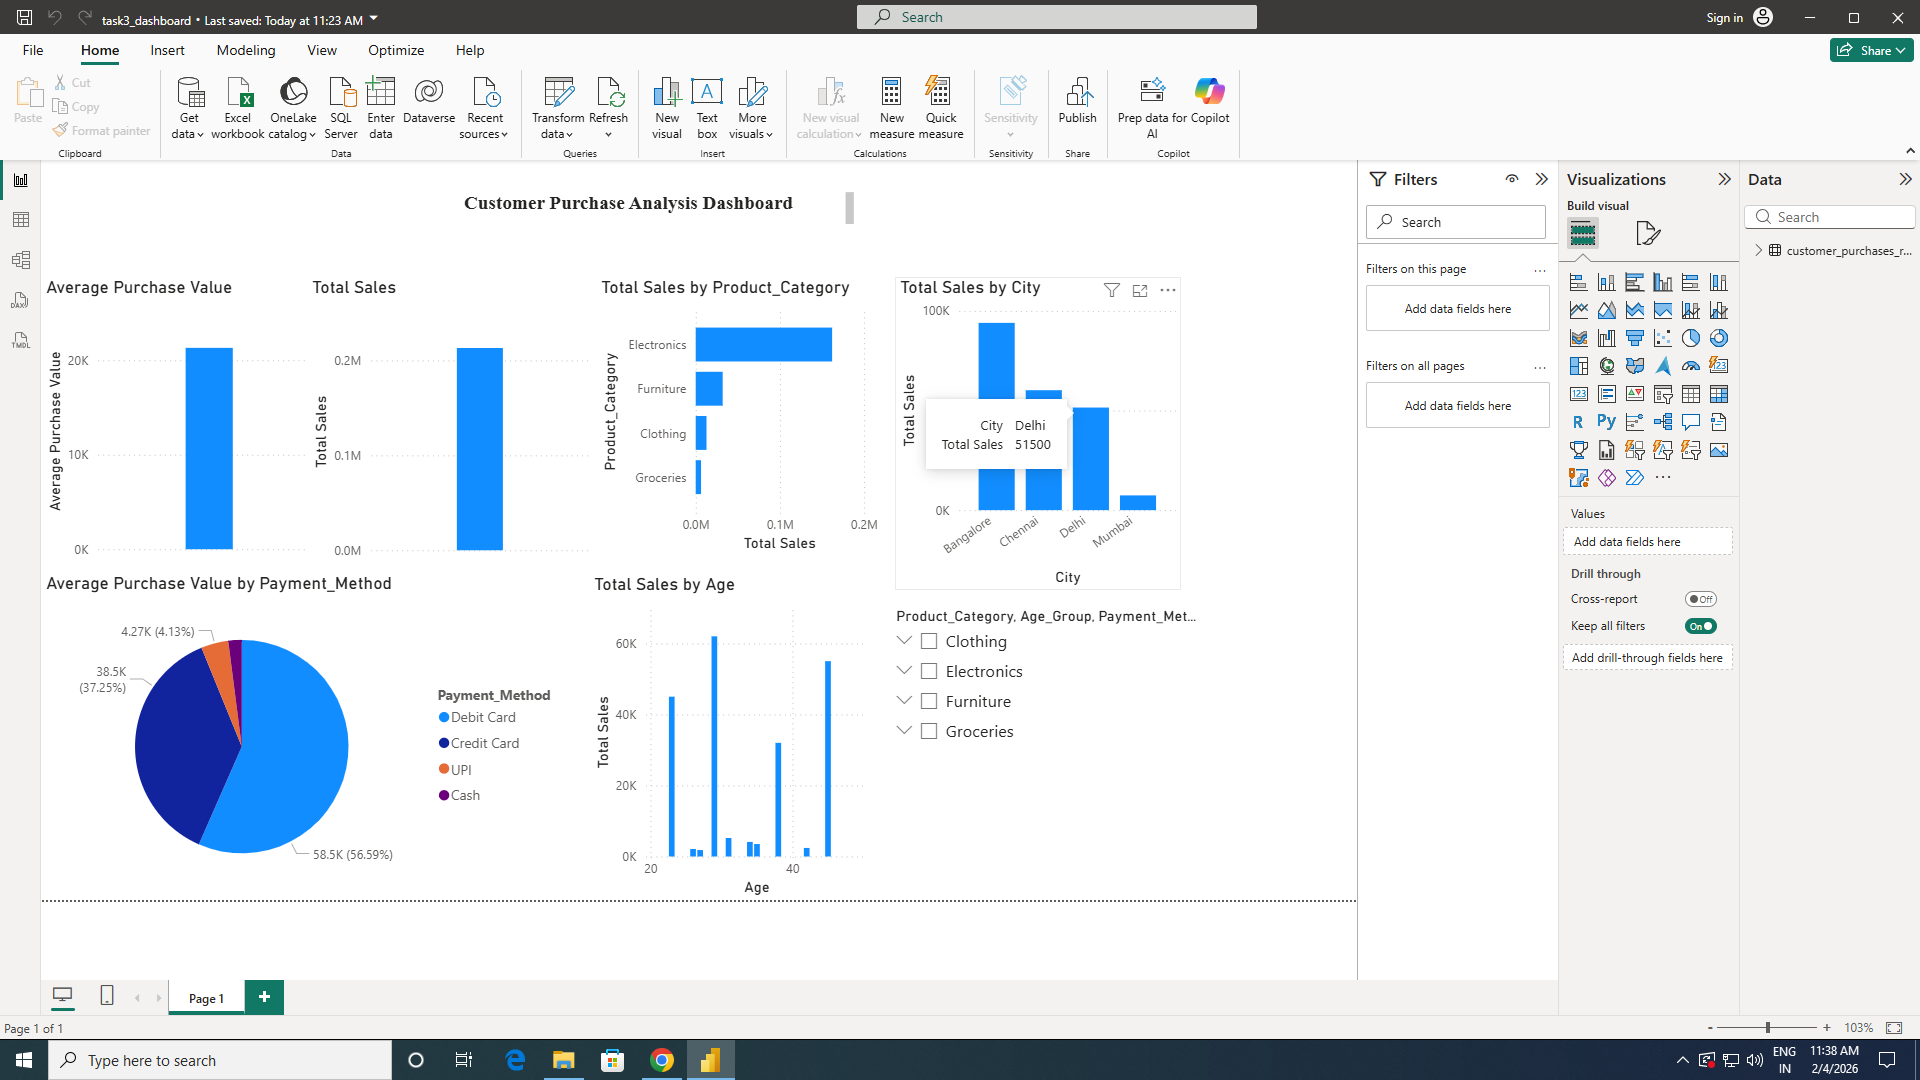

This screenshot's page, from the dashboard's own definition file:
{"tool":"powerbi","page":{"name":"Page 1","canvas":[1280,720],"ordinal":0},"visuals":[{"type":"columnChart","fields":{"Y":["customer_purchases_raw.Average Purchase Value"]},"box":[0,113.9,278.8,278.8],"z":1000},{"type":"columnChart","fields":{"Y":["customer_purchases_raw.Total Sales"]},"box":[258.8,113.9,280.8,279.8],"z":1001},{"type":"columnChart","fields":{"Category":["customer_purchases_raw.City"],"Y":["customer_purchases_raw.Total Sales"]},"box":[830.4,113.9,278.8,304.8],"z":1002},{"type":"barChart","fields":{"Category":["customer_purchases_raw.Product_Category"],"Y":["customer_purchases_raw.Total Sales"]},"box":[539.6,113.9,279.8,271.8],"z":1003},{"type":"pieChart","fields":{"Category":["customer_purchases_raw.Payment_Method"],"Y":["customer_purchases_raw.Average Purchase Value"]},"box":[0,401.7,516.6,318.8],"z":1004},{"type":"columnChart","fields":{"Category":["customer_purchases_raw.Age"],"Y":["customer_purchases_raw.Total Sales"]},"box":[532.6,402.7,279.8,317.8],"z":1005},{"type":"slicer","fields":{"Values":["customer_purchases_raw.Product_Category","customer_purchases_raw.Age_Group","customer_purchases_raw.Payment_Method","customer_purchases_raw.City"]},"box":[819.4,429.7,329.7,290.8],"z":1006},{"type":"textbox","box":[406.7,26,388.7,45],"z":1007}]}

Visuals, with their boxes on the page's 1280x720 design canvas (x1, y1, x2, y2). These are canvas units, not pixel positions in the 1920x1080 screenshot, which may show the page scaled, cropped or inside an application window:
columnChart - customer_purchases_raw.Average Purchase Value: 0/114/279/393
columnChart - customer_purchases_raw.Total Sales: 259/114/540/394
columnChart - customer_purchases_raw.City x customer_purchases_raw.Total Sales: 830/114/1109/419
barChart - customer_purchases_raw.Product_Category x customer_purchases_raw.Total Sales: 540/114/819/386
pieChart - customer_purchases_raw.Payment_Method x customer_purchases_raw.Average Purchase Value: 0/402/517/720
columnChart - customer_purchases_raw.Age x customer_purchases_raw.Total Sales: 533/403/812/720
slicer - customer_purchases_raw.Product_Category x customer_purchases_raw.Age_Group: 819/430/1149/720
textbox: 407/26/795/71
